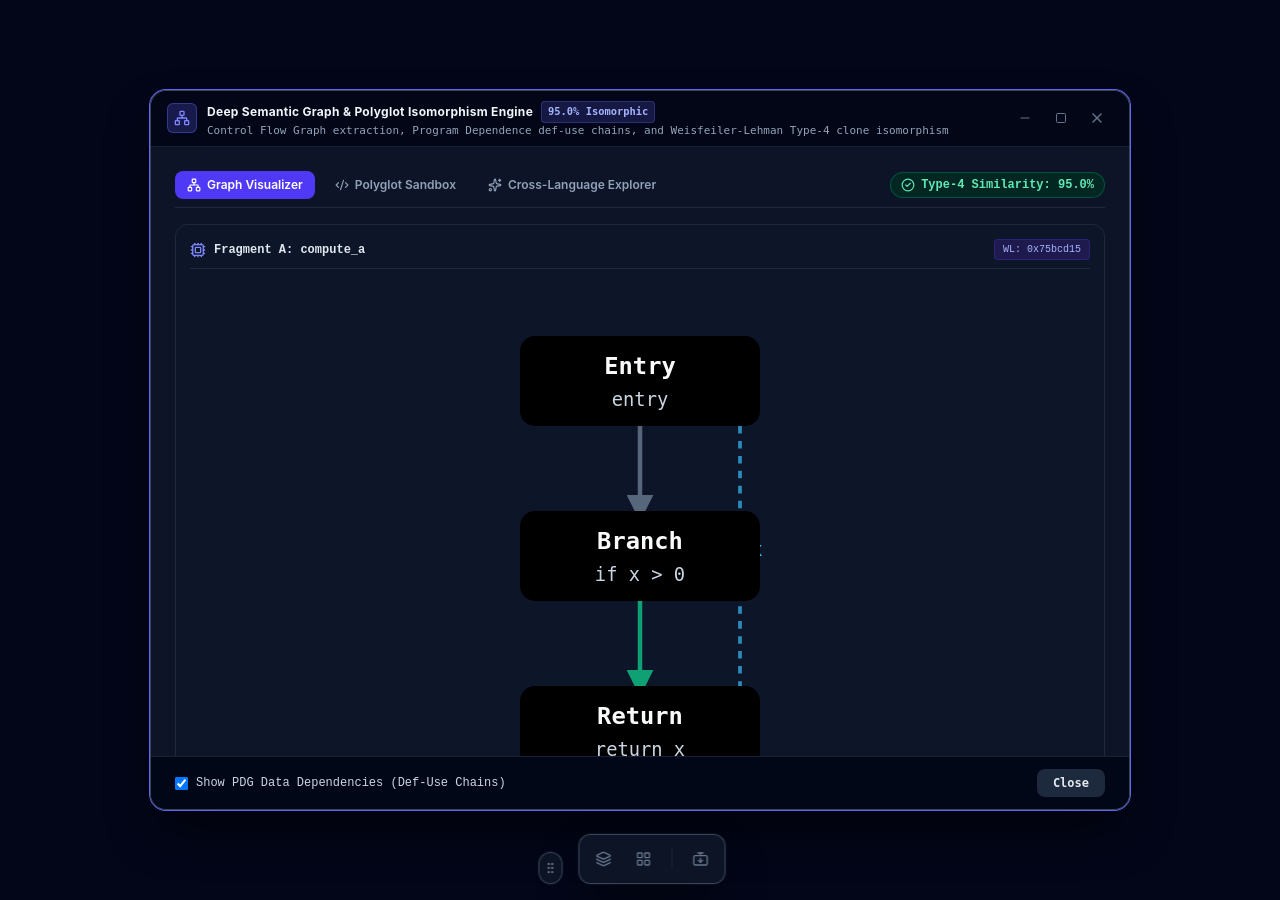
it: SemanticGraphModal Component › should switch between visualizer, sandbox, and cross-language explorer tabs
Click the button "Polyglot Sandbox".
click(395, 185)  # box [323,171,468,199]
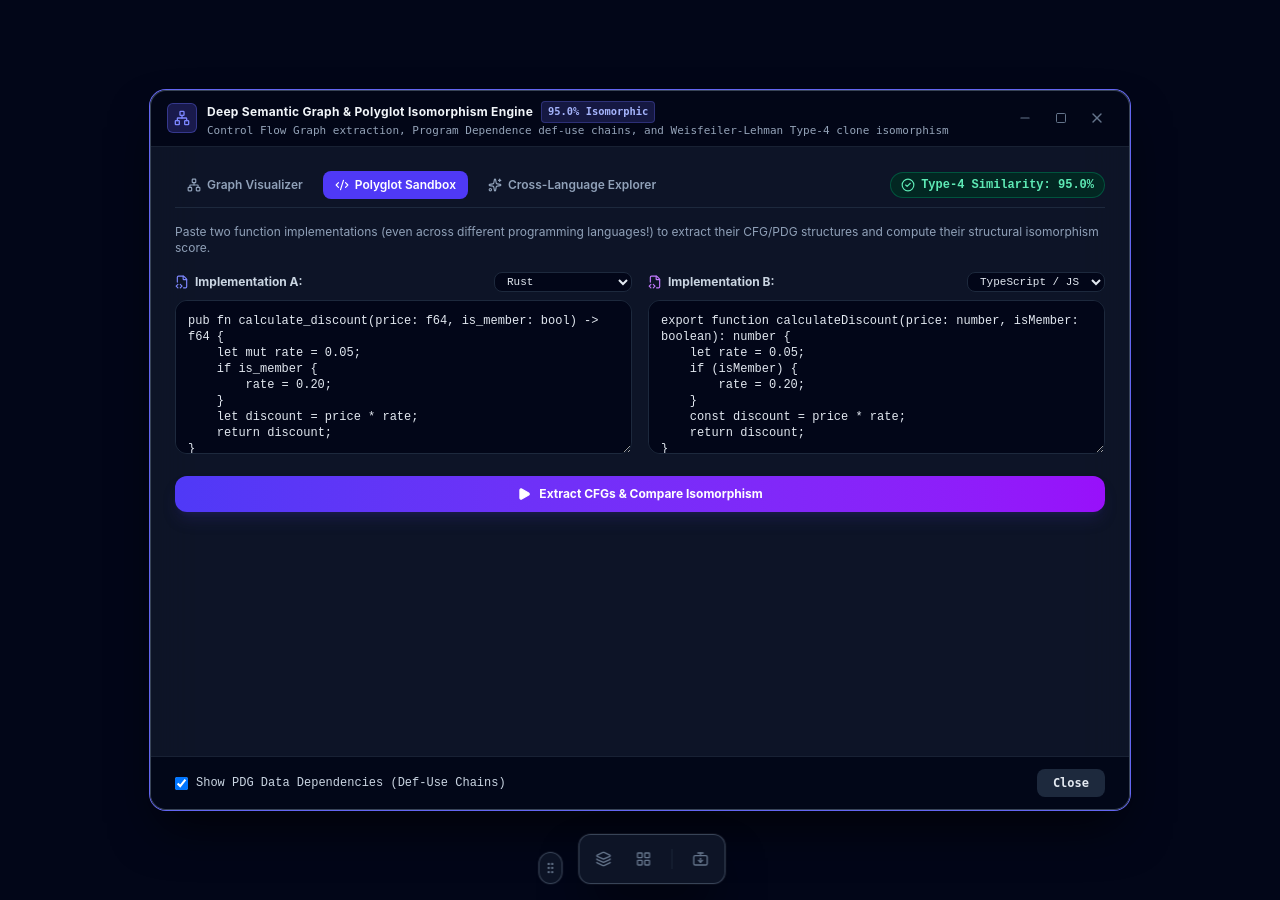
Result: the text "Implementation A:" is shown at [195,274,303,290]
Result: the text "Implementation B:" is shown at [668,274,774,290]
Result: the text "Extract CFGs & Compare Isomorphism" is shown at [539,486,763,502]
Click the button "Cross-Language Explorer".
click(572, 185)  # box [476,171,668,199]
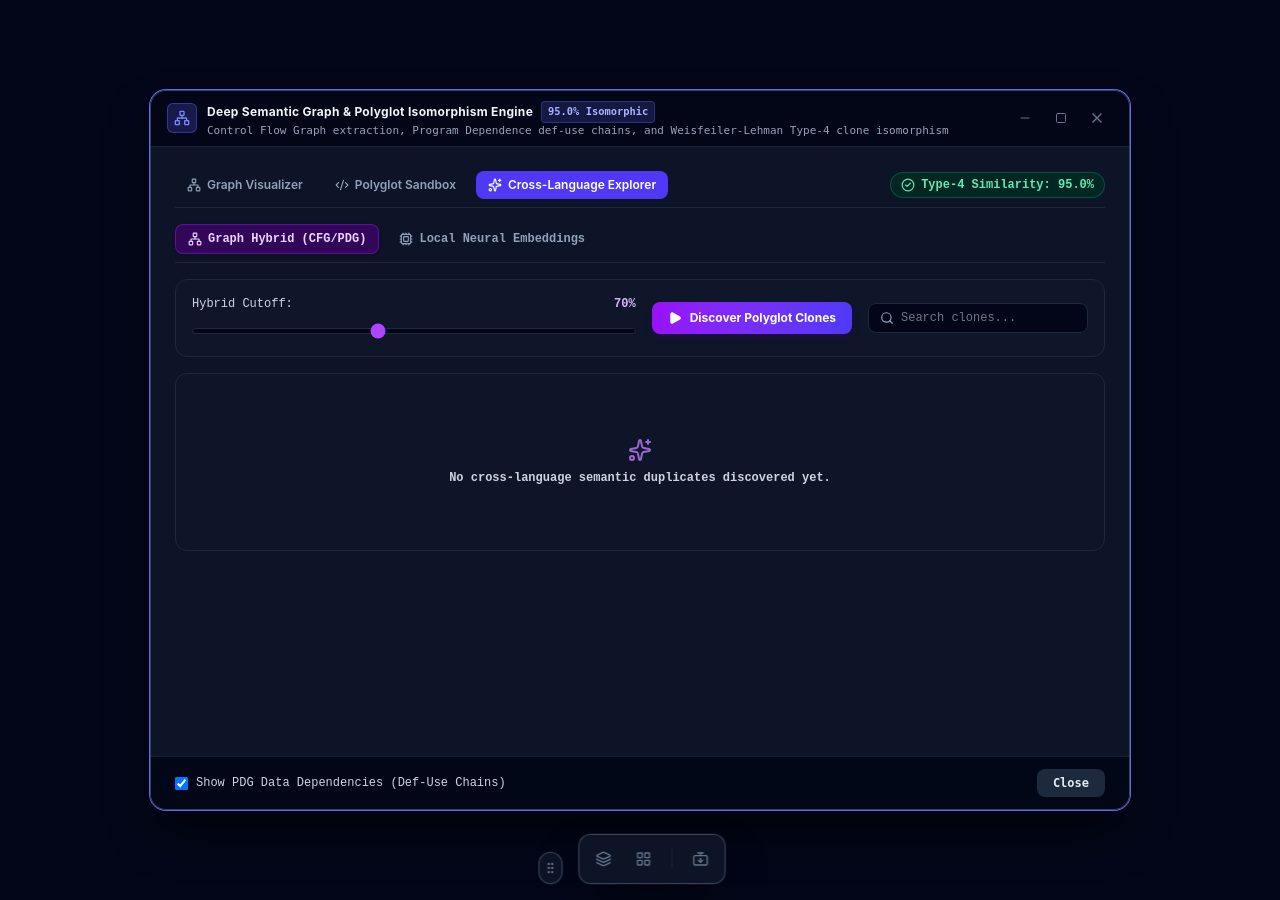
Result: the text "Discover Polyglot Clones" is shown at [690,310,836,326]
